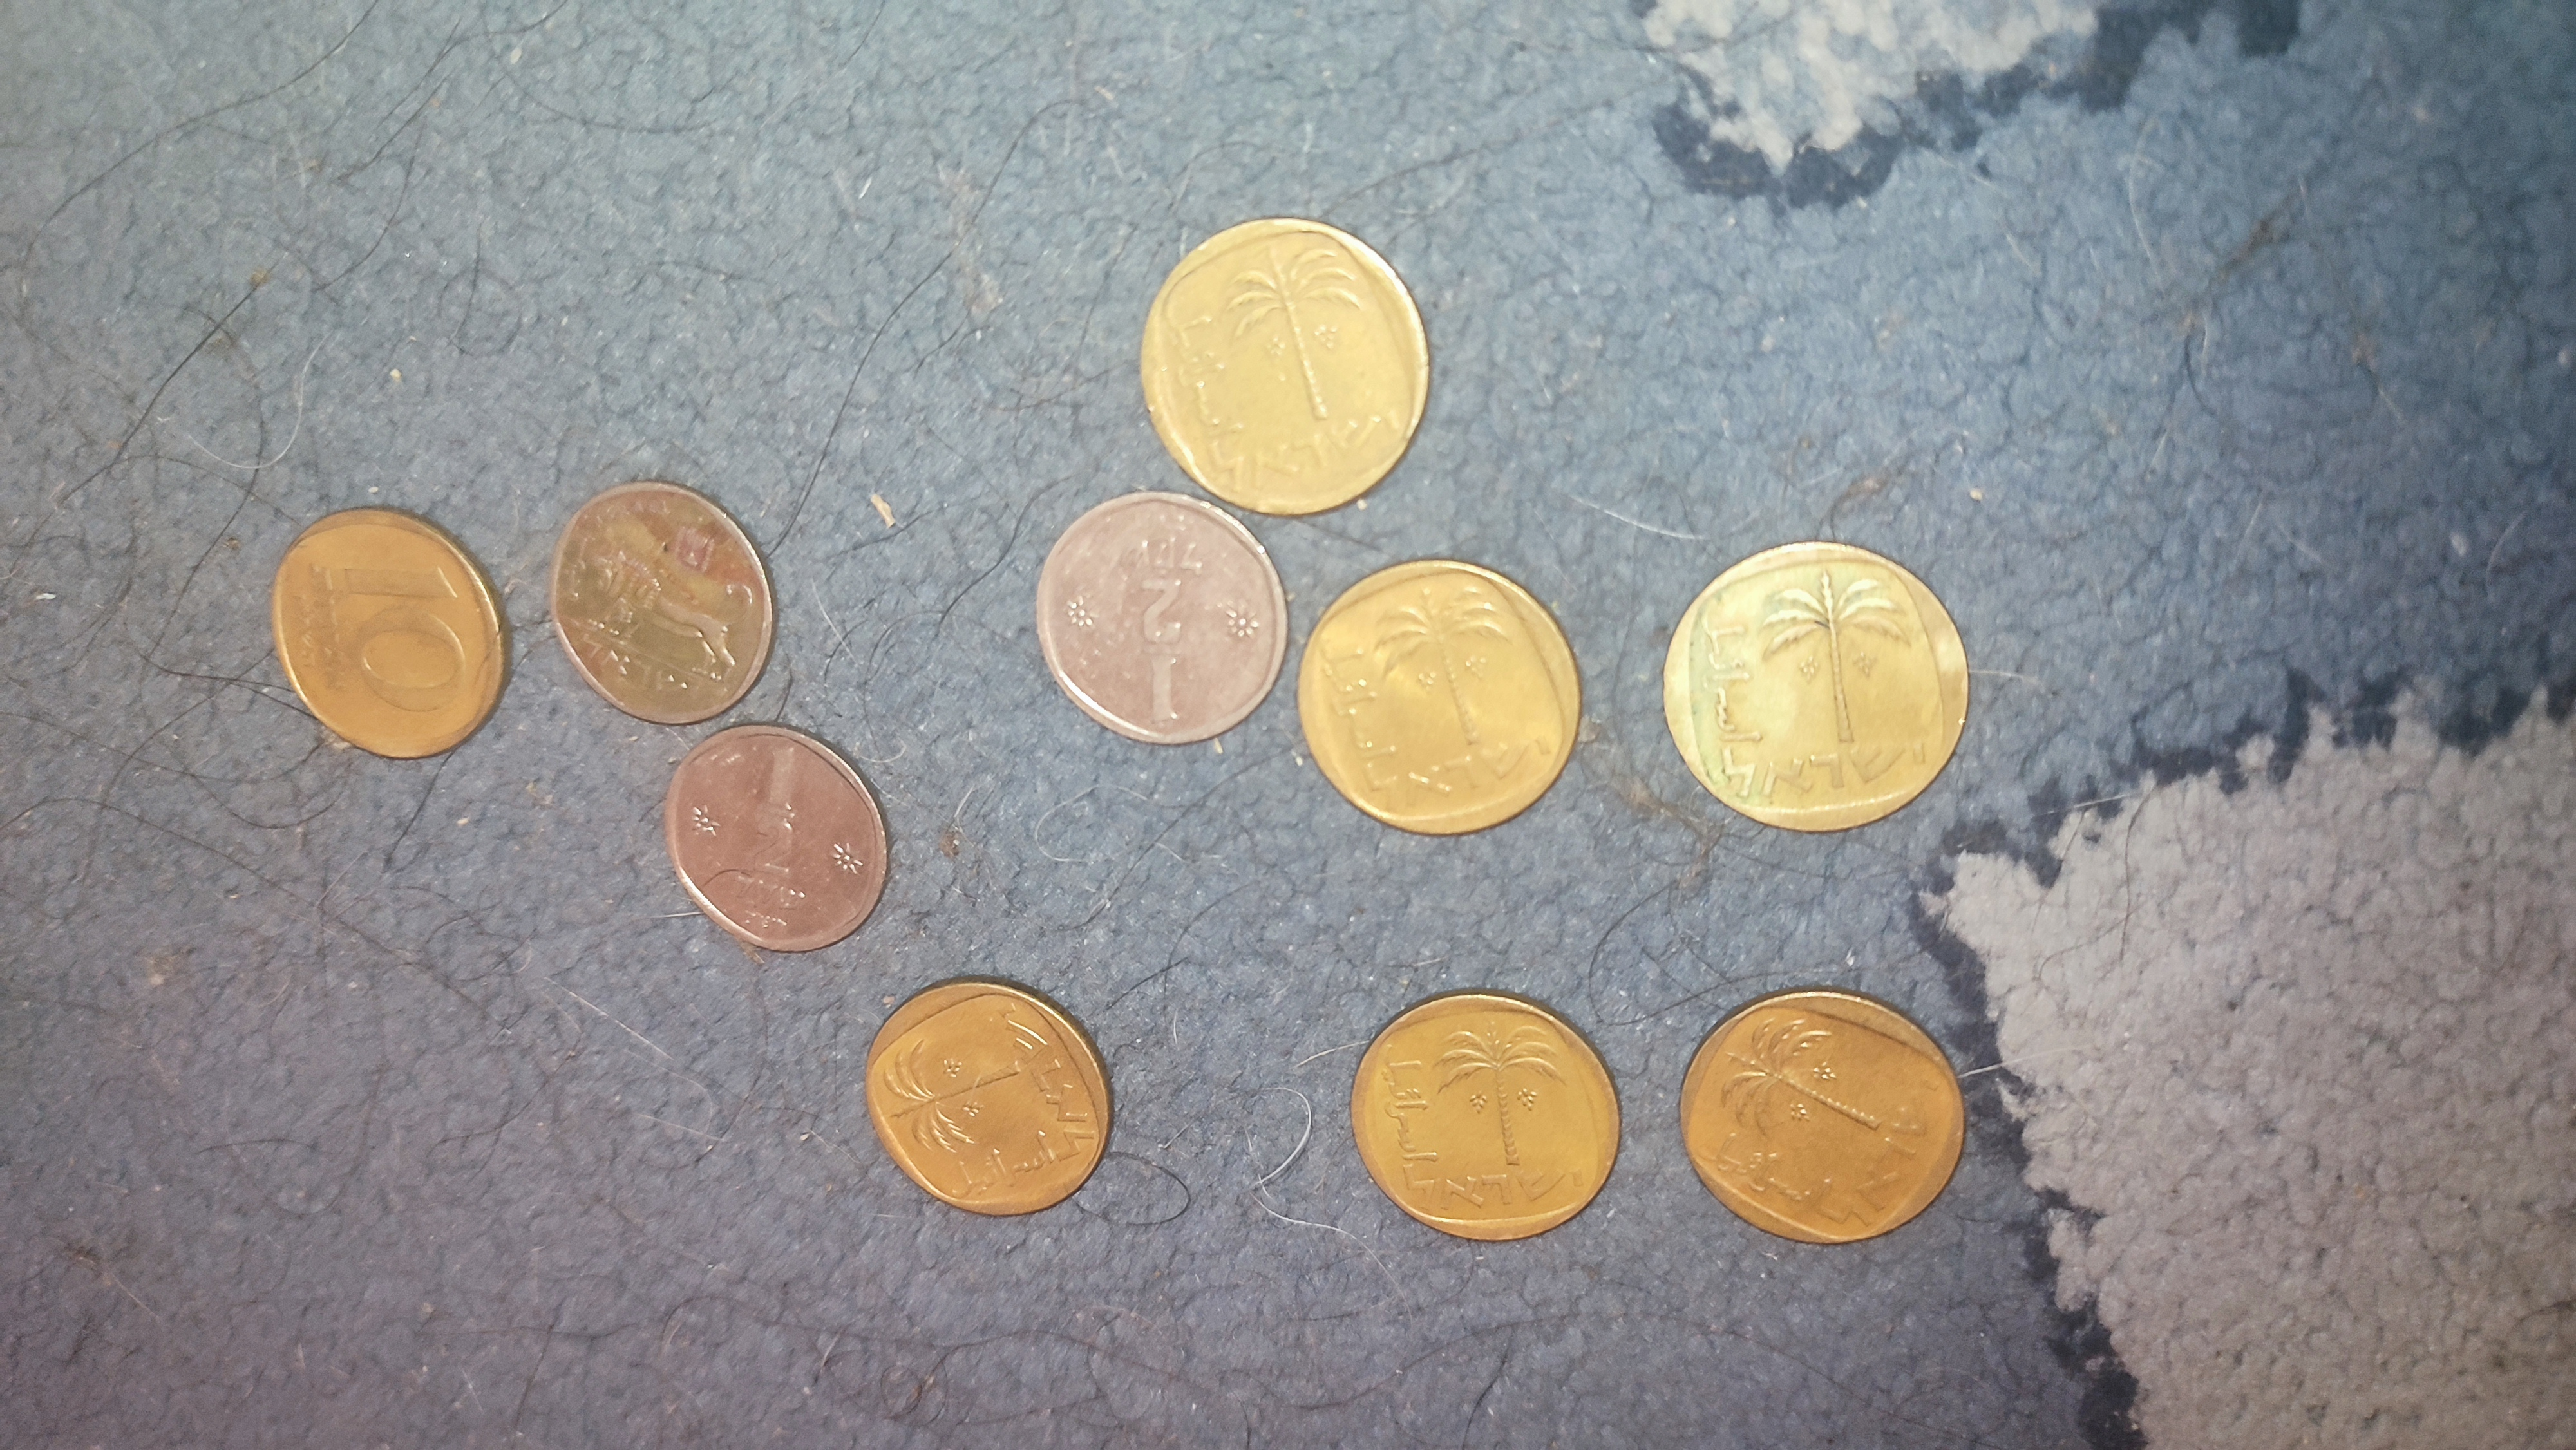1/2 old sheqel: (1031, 488, 1293, 748), (545, 472, 782, 729), (658, 720, 892, 958)
10 old agora brown: (1136, 205, 1442, 527), (1654, 536, 1976, 842), (1293, 557, 1591, 854), (1668, 980, 1969, 1250), (1346, 983, 1624, 1255), (265, 492, 518, 782), (856, 971, 1120, 1224)
